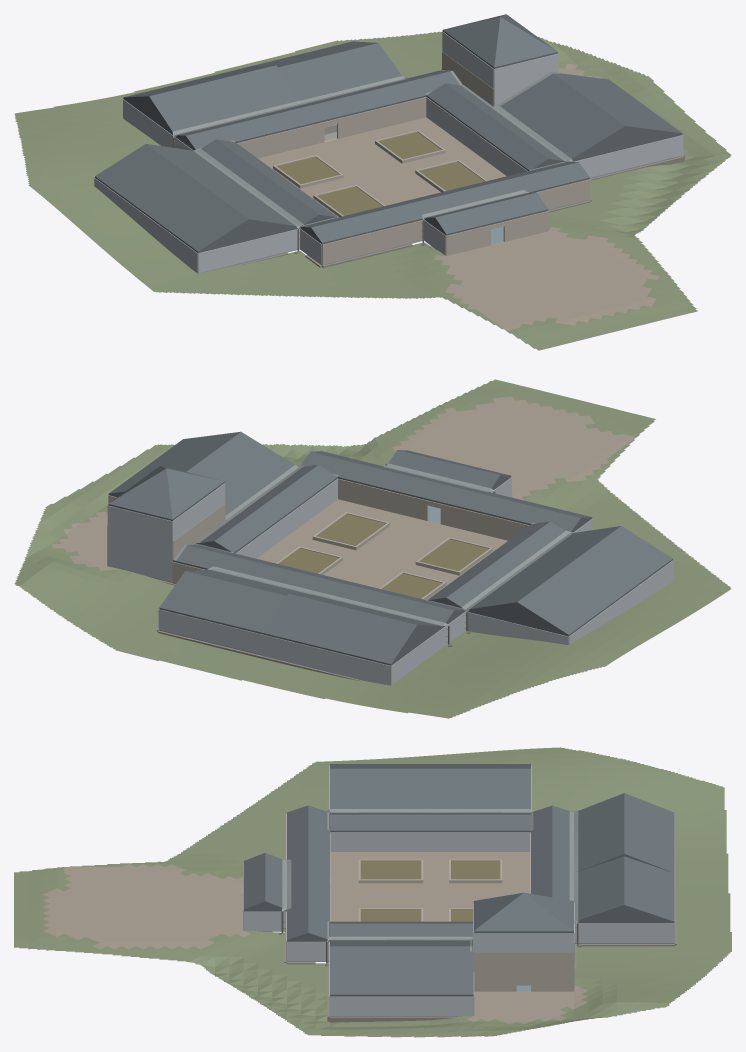
The model's file is monastery-with-roof-flashings.glb.
3 views of the same model, one above another, from view 1: azimuth 30°, elevation 25°; view 2: azimuth 150°, elevation 25°; view 3: azimuth 270°, elevation 25° (orthographic). The views are drawn at different scales.
Visible parts, largest first — view 1: WLD-10 saved ground, dormitory roof west, archive roof south, refectory roof west, north-cloister roof south, south-cloister roof south, vestry roof south, dormitory roof east, east-cloister roof west, refectory roof east, gatehouse roof south, west-cloister roof west (+31 smaller); view 2: WLD-10 saved ground, dormitory roof west, archive roof north, south-cloister roof north, vestry roof north, north-cloister roof north, refectory roof west, dormitory roof east, east-cloister roof west, Wall archive N, Wall tower-base N, west-cloister roof west (+32 smaller); view 3: WLD-10 saved ground, dormitory roof east, refectory roof east, Wall west E, west-cloister roof east, archive roof north, archive roof south, Wall refectory E, south-cloister roof north, south-cloister roof south, vestry roof north, vestry roof south (+26 smaller).
Part boxes in pixels (bbox=[...]): WLD-10 saved ground: bbox=[14, 31, 731, 350]; dormitory roof west: bbox=[95, 144, 248, 252]; archive roof south: bbox=[149, 65, 299, 132]; refectory roof west: bbox=[500, 73, 625, 159]; north-cloister roof south: bbox=[186, 71, 459, 149]; south-cloister roof south: bbox=[311, 162, 589, 244]; vestry roof south: bbox=[278, 43, 401, 100]; dormitory roof east: bbox=[146, 143, 296, 227]; east-cloister roof west: bbox=[426, 83, 548, 170]; refectory roof east: bbox=[554, 73, 682, 134]; gatehouse roof south: bbox=[435, 192, 548, 235]; west-cloister roof west: bbox=[201, 139, 319, 225]; WLD-10 saved ground: bbox=[14, 379, 731, 718]; dormitory roof west: bbox=[517, 526, 672, 636]; archive roof north: bbox=[262, 593, 417, 665]; south-cloister roof north: bbox=[300, 452, 580, 532]; vestry roof north: bbox=[159, 571, 286, 633]; north-cloister roof north: bbox=[172, 545, 454, 626]; refectory roof west: bbox=[186, 432, 294, 515]; dormitory roof east: bbox=[469, 526, 620, 610]; east-cloister roof west: bbox=[214, 465, 337, 553]; Wall archive N: bbox=[262, 634, 391, 685]; Wall tower-base N: bbox=[108, 526, 172, 581]; west-cloister roof west: bbox=[446, 521, 565, 608]; WLD-10 saved ground: bbox=[14, 747, 731, 1037]; dormitory roof east: bbox=[330, 768, 530, 808]; refectory roof east: bbox=[330, 946, 473, 995]; Wall west E: bbox=[330, 832, 529, 851]; west-cloister roof east: bbox=[330, 814, 530, 832]; archive roof north: bbox=[624, 793, 674, 872]; archive roof south: bbox=[578, 793, 624, 871]; Wall refectory E: bbox=[330, 996, 473, 1015]; south-cloister roof north: bbox=[308, 805, 329, 941]; south-cloister roof south: bbox=[287, 805, 308, 941]; vestry roof north: bbox=[624, 856, 674, 922]; vestry roof south: bbox=[578, 856, 624, 921].
Size of the model in its own units: 92 by 16 by 100.
